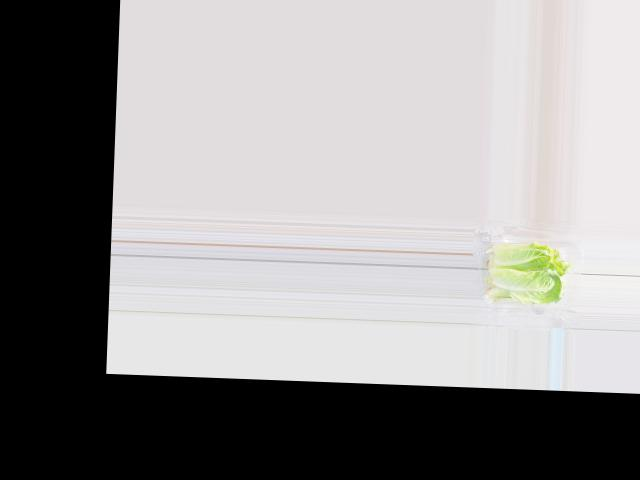lettuce: (488, 240, 571, 305)
